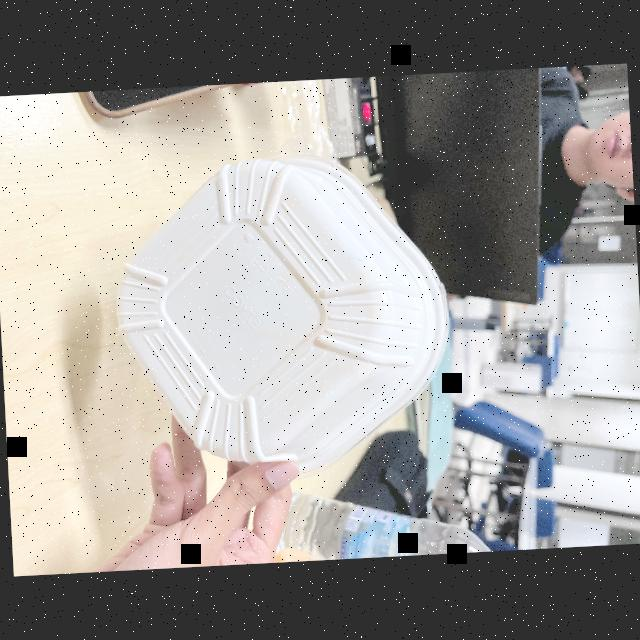plastic_box: (102, 150, 458, 487)
